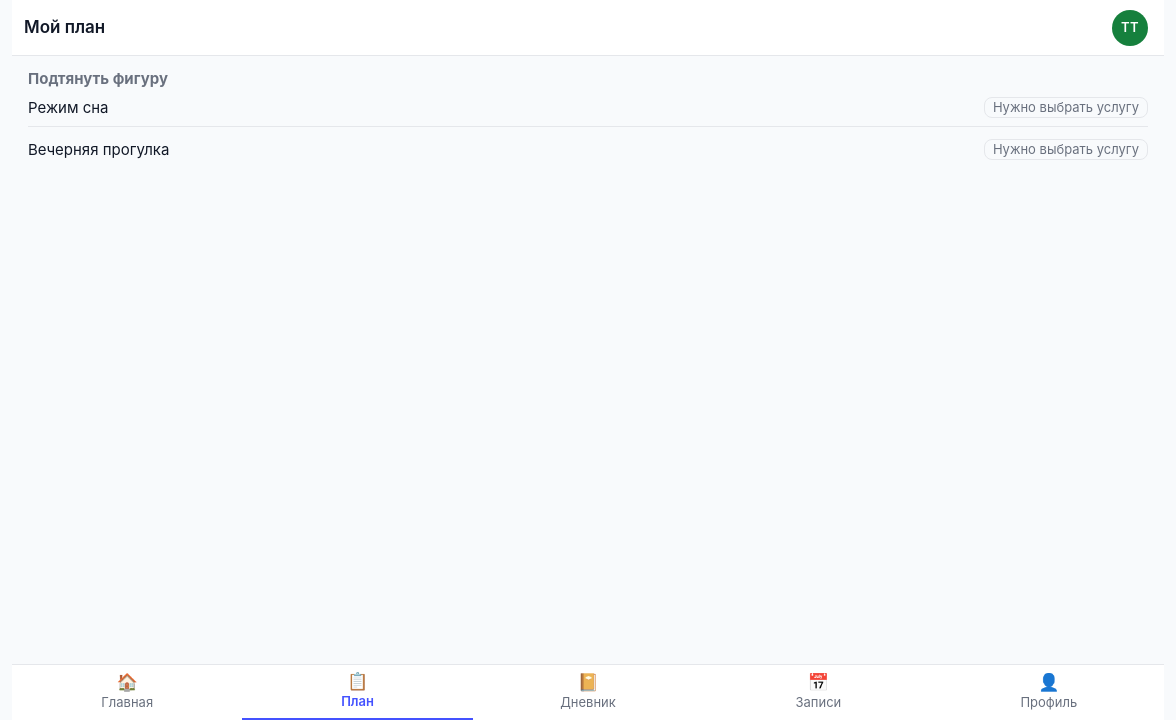
Scenario: «Мой план»: от шага к услуге, времени и записи › нажатие спрашивает услуги ЭТОГО шага и показывает их словами каталога
What coordinates should you click on to do the following:
click the button "Нужно выбрать услугу" in the row of "Вечерняя прогулка"
I would click on:
 (1066, 150)
Its box is [984,139,1148,160].
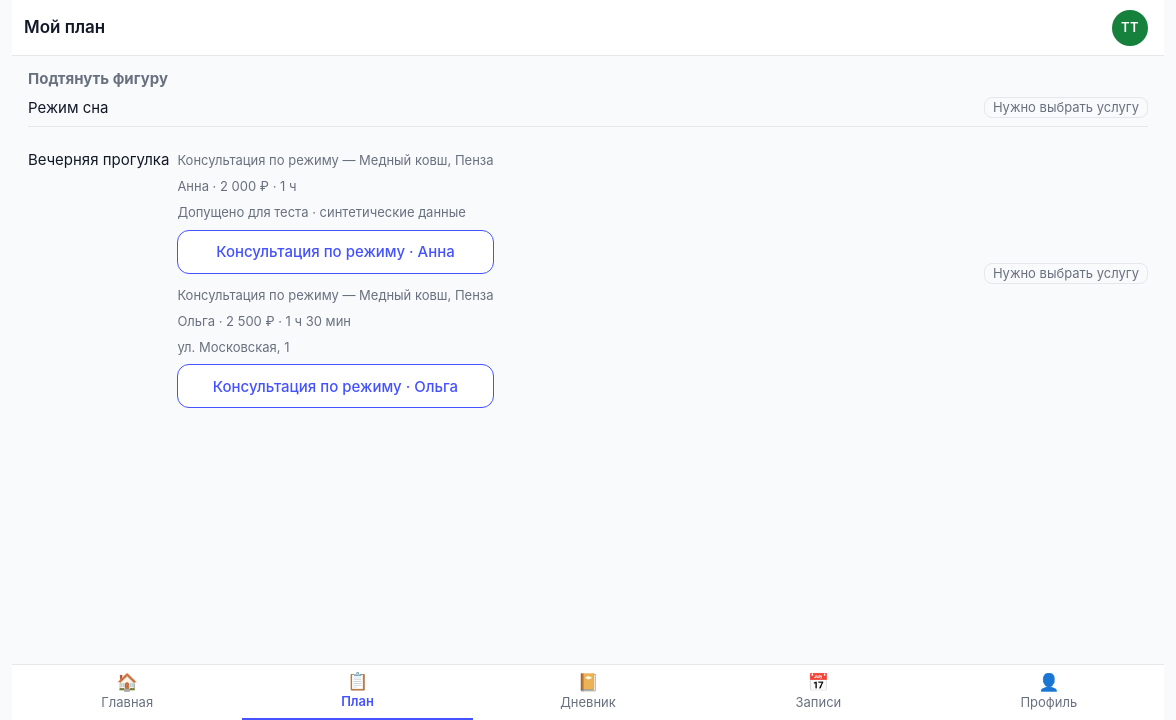
Expected: the text "Консультация по режиму — Медный ковш, Пенза" is shown 2 times, [177,151,494,169]; [177,286,494,304]
Expected: the text "Анна · 2 000 ₽ · 1 ч" is shown, [177,178,296,194]
Expected: the text "Ольга · 2 500 ₽ · 1 ч 30 мин" is shown, [177,313,351,329]
